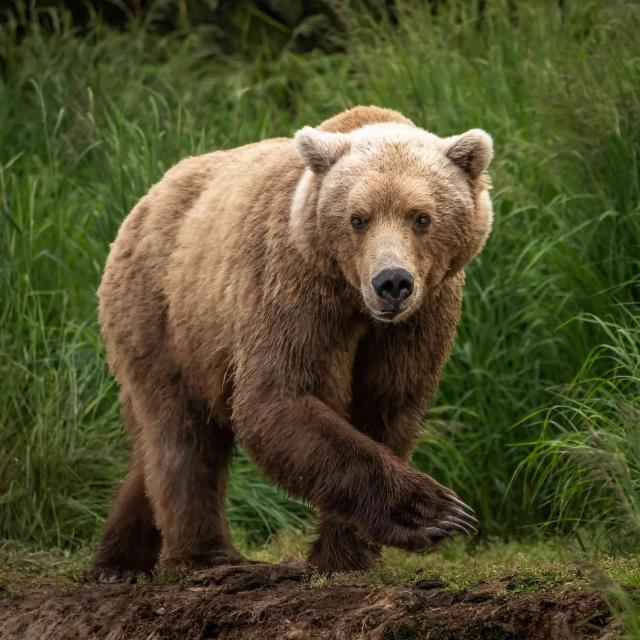Bear: (85, 107, 495, 579)
